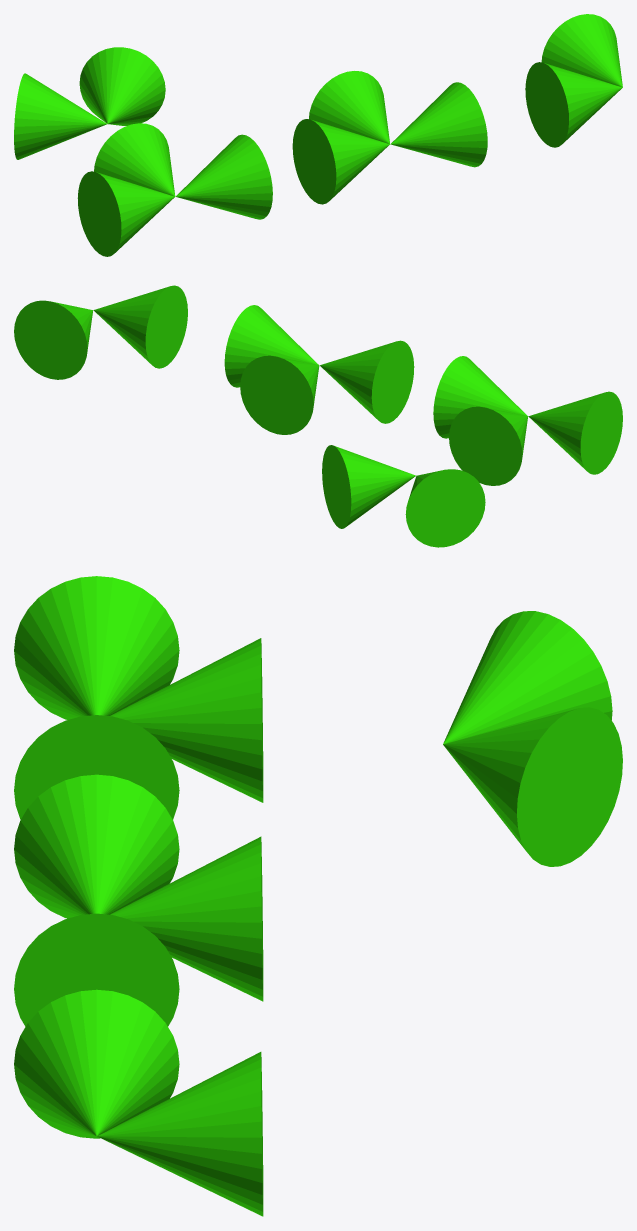
Rendered from cctv.glb.
The picture shows the model from 3 angles, top to bottom: view 1: azimuth 30°, elevation 25°; view 2: azimuth 150°, elevation 25°; view 3: azimuth 270°, elevation 25°; orthographic projection. The views are drawn at different scales.
Visible parts, largest first — view 1: cctv.007; view 2: cctv.007; view 3: cctv.007.
Boxes of the visible parts, bbox=[...] form: cctv.007: bbox=[14, 14, 622, 256]; cctv.007: bbox=[14, 285, 622, 547]; cctv.007: bbox=[14, 576, 622, 1216].
Bounding box in the file's own units: 119 × 16 × 58.86.
